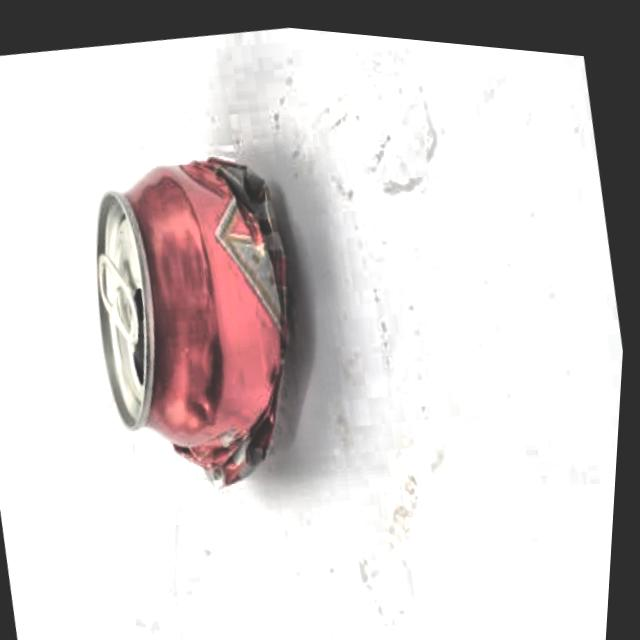Cans: (44, 112, 360, 530)
